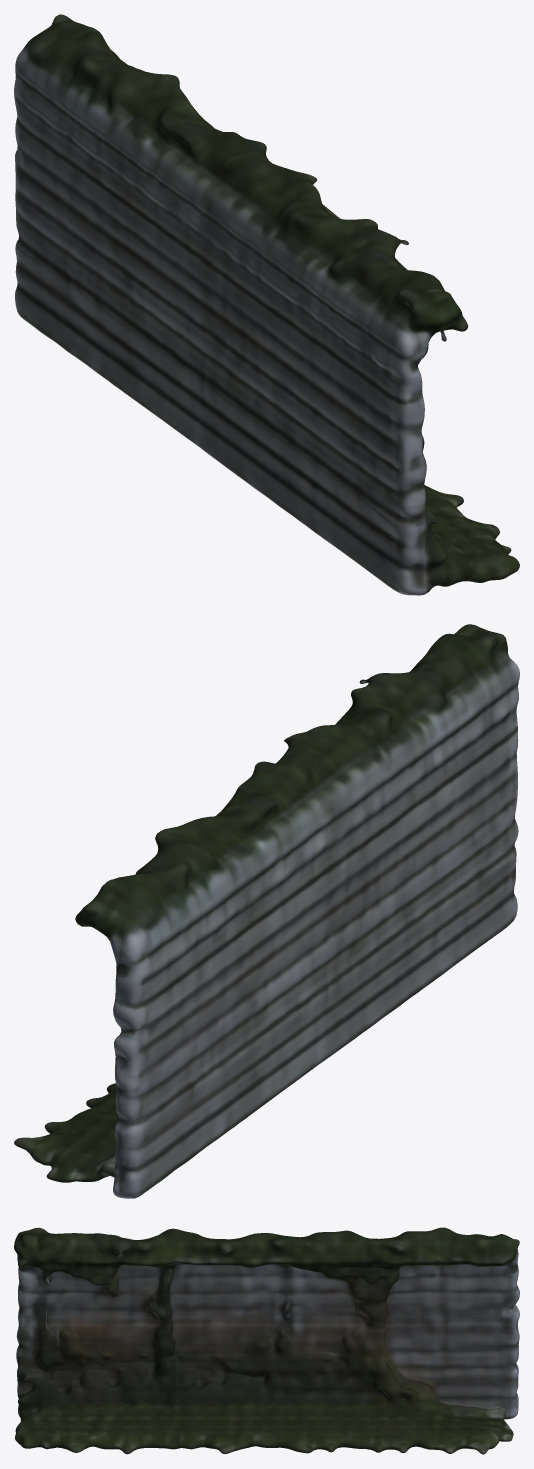
Rendered from Wall_2.glb.
The picture shows the model from 3 angles, top to bottom: view 1: azimuth 30°, elevation 25°; view 2: azimuth 150°, elevation 25°; view 3: azimuth 270°, elevation 25°; orthographic projection. The views are drawn at different scales.
Parts seen in each view (by area): view 1: world; view 2: world; view 3: world.
Part boxes in pixels (left/top/right/bottom): world: left=14, top=14, right=519, bottom=595; world: left=14, top=624, right=519, bottom=1198; world: left=14, top=1227, right=519, bottom=1454.
Bounding box in the file's own units: 0.1245 × 0.2311 × 0.5551.
1 material, 1 textured.
